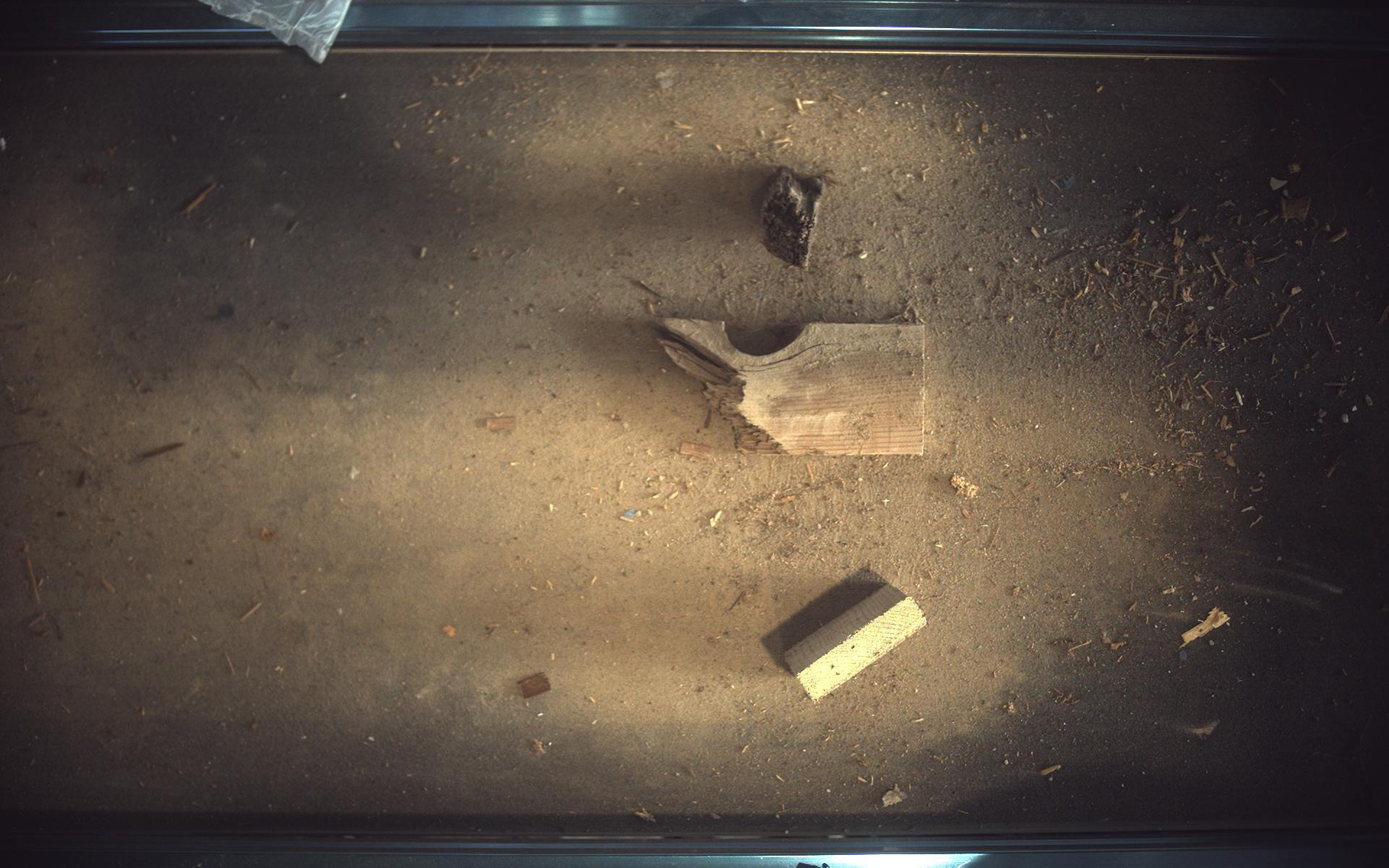wood: (653, 317, 927, 455), (786, 585, 927, 702), (763, 166, 826, 267)
